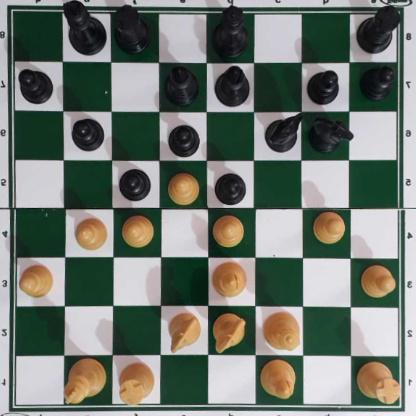black-bishop: (163, 66, 200, 105), (215, 65, 250, 106)
black-king: (65, 1, 106, 58)
black-knight: (266, 112, 305, 151), (310, 117, 354, 151)
black-pawn: (19, 67, 54, 105), (361, 64, 396, 99), (167, 120, 201, 156), (71, 116, 105, 151), (214, 169, 246, 204), (119, 166, 151, 201), (310, 67, 340, 104)
black-queen: (211, 3, 250, 58)
black-rook: (355, 1, 402, 53), (112, 5, 153, 55)
white-bishop: (262, 358, 297, 400), (212, 260, 246, 297)
white-king: (62, 357, 108, 407)
white-knight: (166, 311, 202, 352), (212, 313, 247, 351)
white-pawn: (19, 262, 56, 299), (74, 213, 108, 251), (360, 263, 397, 296), (122, 213, 155, 247), (167, 170, 201, 203), (313, 210, 346, 243), (213, 213, 245, 247)
white-queen: (264, 308, 300, 353)
white-rook: (357, 360, 402, 403), (117, 363, 155, 405)
